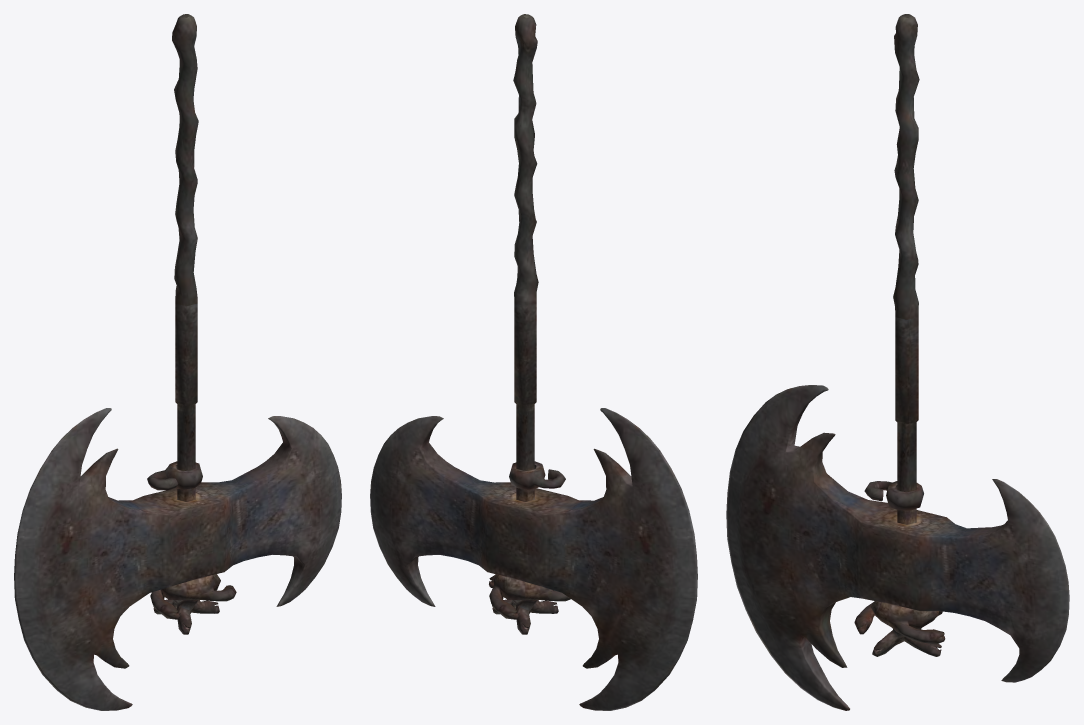
Rendered from weapon-wp_a_0754.glb.
3 renders of one model, left to right at view 1: azimuth 30°, elevation 25°; view 2: azimuth 150°, elevation 25°; view 3: azimuth 330°, elevation 25°, orthographic. The views are drawn at different scales.
Visible parts, largest first — view 1: wp_a_0754_mesh; view 2: wp_a_0754_mesh; view 3: wp_a_0754_mesh.
Part boxes in pixels (box(x1,y1,x2,y2)): wp_a_0754_mesh: box(14, 14, 341, 710); wp_a_0754_mesh: box(370, 14, 697, 710); wp_a_0754_mesh: box(726, 14, 1069, 710).
Bounding box in the file's own units: 0.9667 × 1.91 × 0.2217.
Materials: 1 (1 with a texture image).
